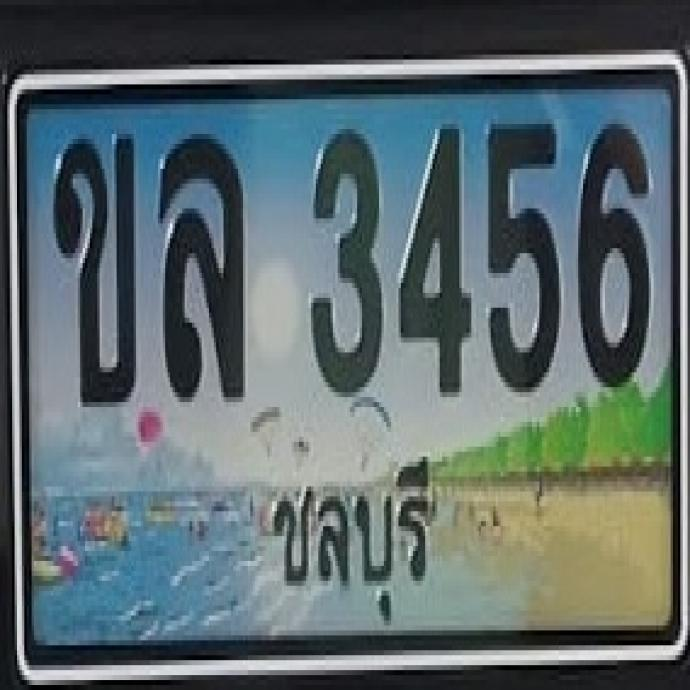3: (309, 125, 380, 394)
4: (398, 118, 470, 394)
5: (485, 118, 557, 390)
6: (578, 118, 648, 385)
A02: (52, 132, 134, 406)
A36: (158, 130, 242, 399)
CBI: (261, 443, 440, 630)
